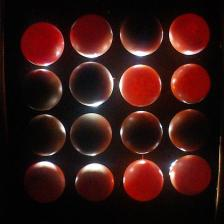fertile: (69, 61, 114, 108), (21, 160, 66, 207), (120, 10, 164, 57), (119, 110, 163, 155), (168, 109, 213, 153), (18, 68, 64, 111), (69, 113, 113, 156), (24, 113, 66, 156), (74, 162, 115, 204)
infertile: (20, 21, 65, 67), (69, 13, 113, 59), (168, 12, 211, 56), (119, 64, 162, 107), (123, 159, 164, 202), (170, 155, 212, 196), (170, 63, 211, 104)
